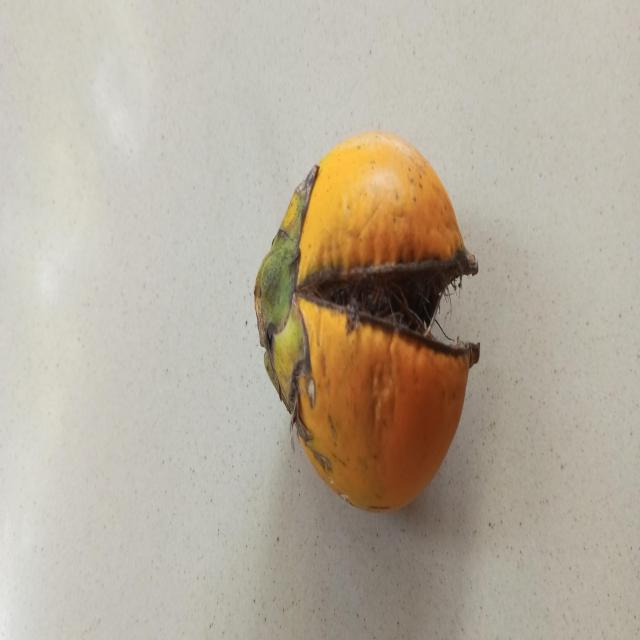damaged: (253, 132, 481, 514)
